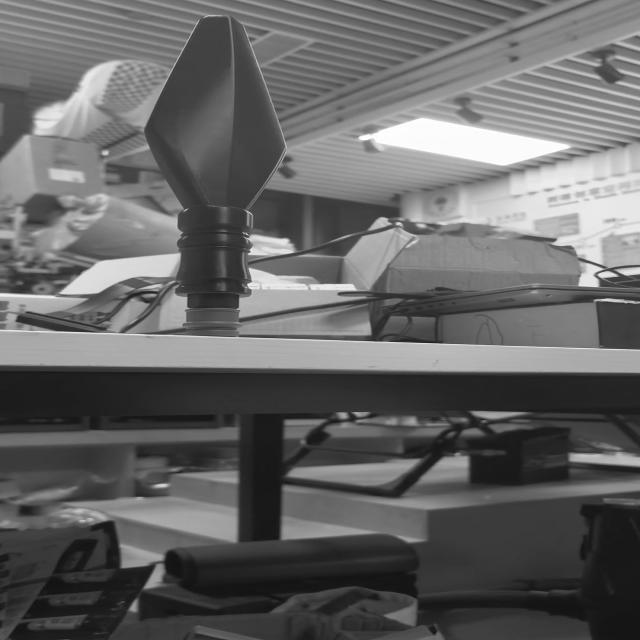base: (186, 306, 242, 336)
